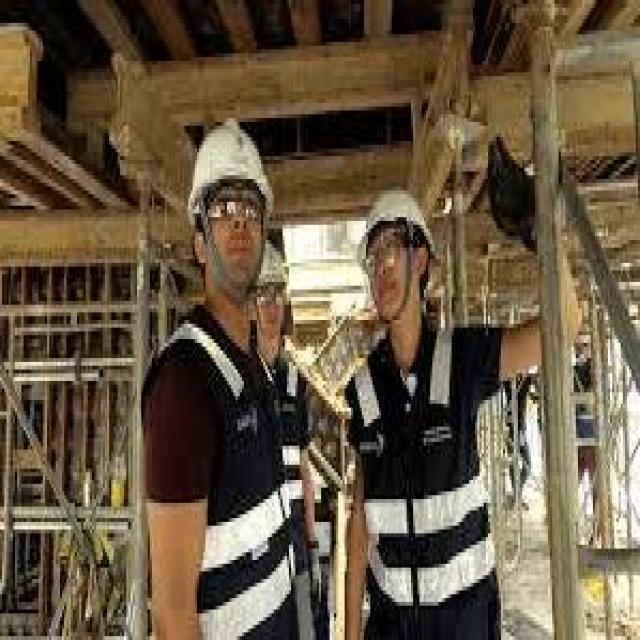Reflective-Jacket: (124, 293, 308, 640), (340, 324, 508, 621)
Safety-Helmet: (180, 110, 284, 228), (349, 172, 445, 270)
